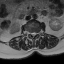CCS_normal: (32, 30, 34, 40)
LFS_stenosis: (36, 30, 38, 36)
LLS_normal: (34, 30, 36, 37)
RFS_normal: (28, 29, 30, 35)
RLS_normal: (30, 30, 32, 38)
